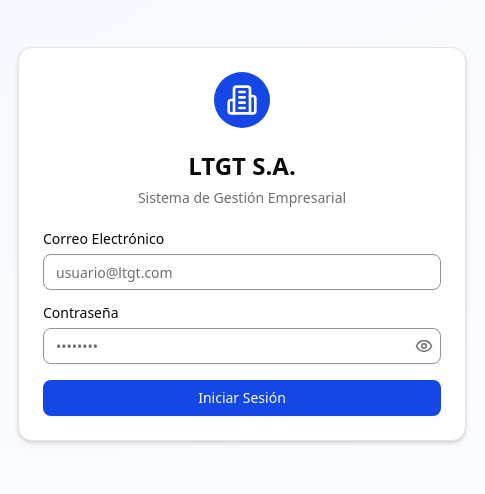
Test case: LoginForm › shows invalid credentials only for 401
In the field labelled "Correo Electrónico": point(242, 272) [43,254,441,290], type "admin@ltgt.com"
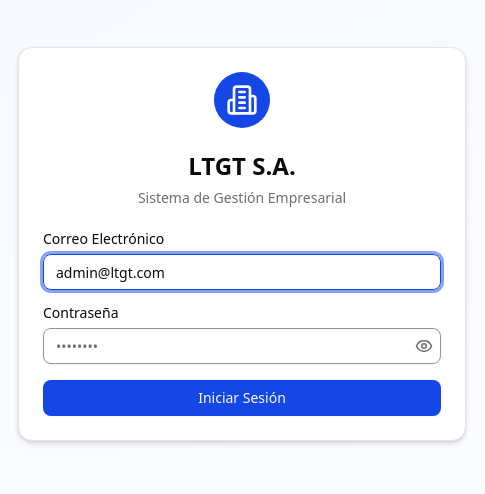
In the password field labelled "Contraseña": point(242, 346) [43,328,441,364], type "secret123"
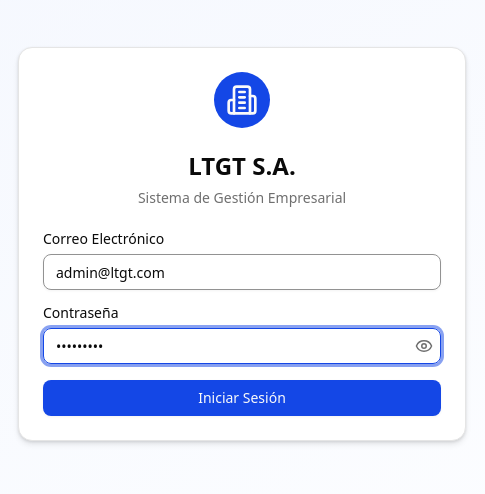
Click the button "Iniciar Sesión": point(242, 398) [43,380,441,416]
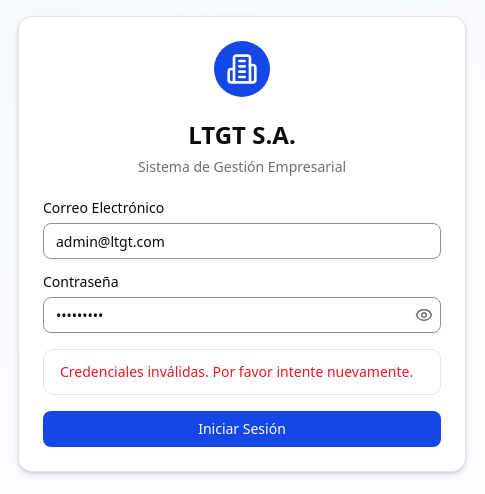
Now the text "Credenciales inválidas. Por favor intente nuevamente." is shown, box [60,362,424,382]
